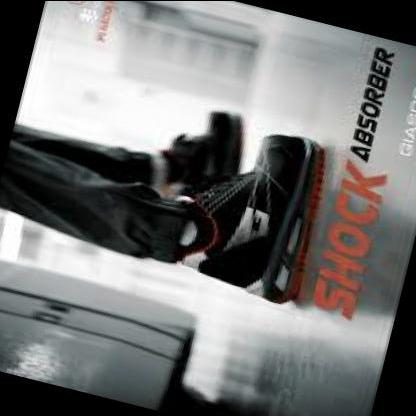safety-shoe: (175, 108, 369, 317)
